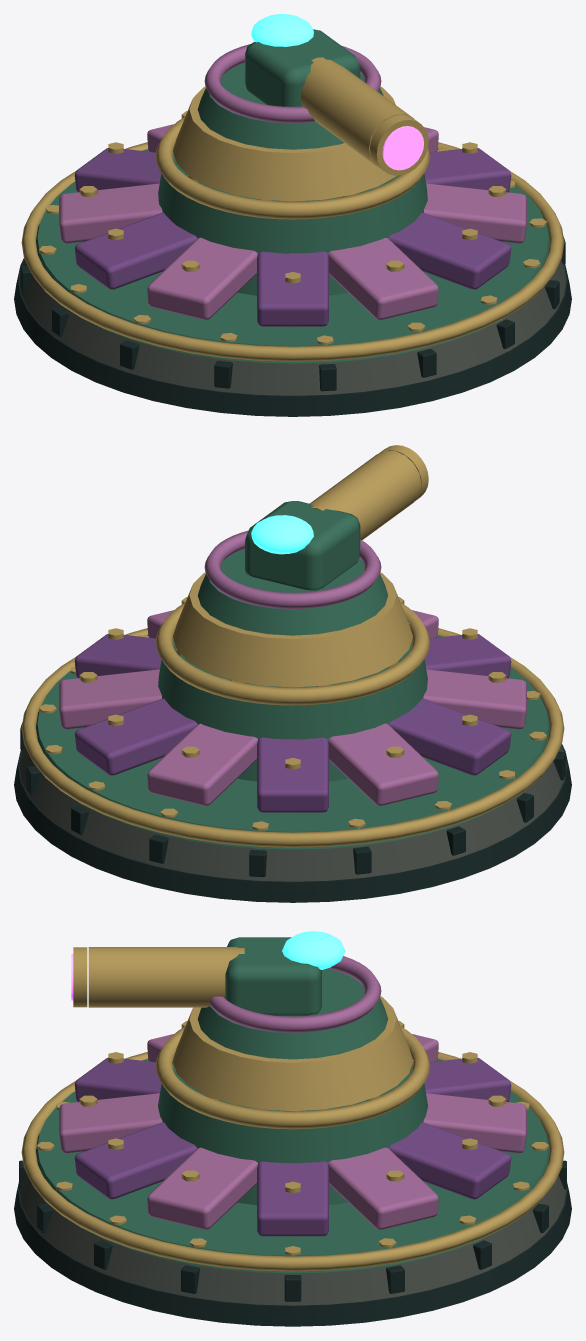
The model's file is warrior-4.glb.
The picture shows the model from 3 angles, top to bottom: view 1: azimuth 30°, elevation 25°; view 2: azimuth 150°, elevation 25°; view 3: azimuth 270°, elevation 25°; orthographic projection.
Parts seen in each view (by area): view 1: warrior-4, turret-yaw, barrels-recoil; view 2: warrior-4, turret-yaw, barrels-recoil; view 3: warrior-4, turret-yaw, barrels-recoil.
Part boxes in pixels (x1,y1,x2,y2): warrior-4: [14, 111, 571, 416]; turret-yaw: [173, 14, 396, 201]; barrels-recoil: [300, 57, 428, 175]; warrior-4: [14, 597, 571, 902]; turret-yaw: [173, 501, 412, 687]; barrels-recoil: [309, 445, 428, 540]; warrior-4: [14, 1021, 571, 1326]; turret-yaw: [173, 931, 412, 1110]; barrels-recoil: [71, 947, 244, 1007].
Size of the model in its own units: 0.8888 by 0.4785 by 0.8888.
